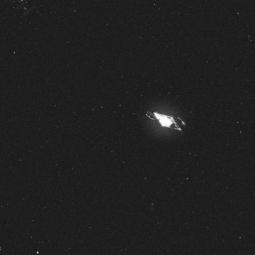lisa_pathfinder: (127, 97, 210, 152)
